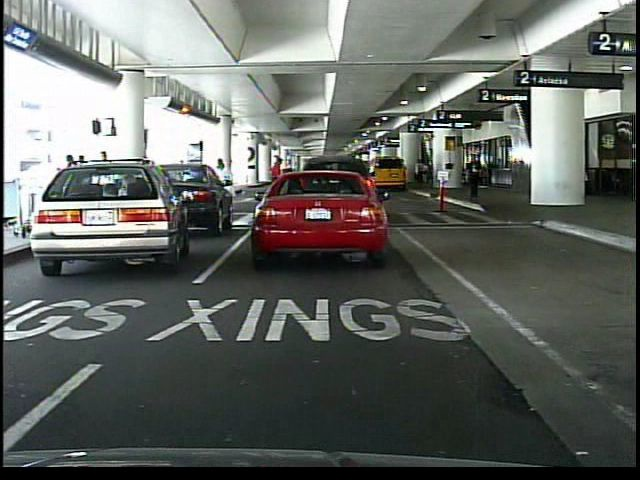person: (94, 147, 119, 219), (215, 157, 236, 212), (268, 153, 289, 200), (464, 155, 483, 201), (414, 155, 426, 191)
